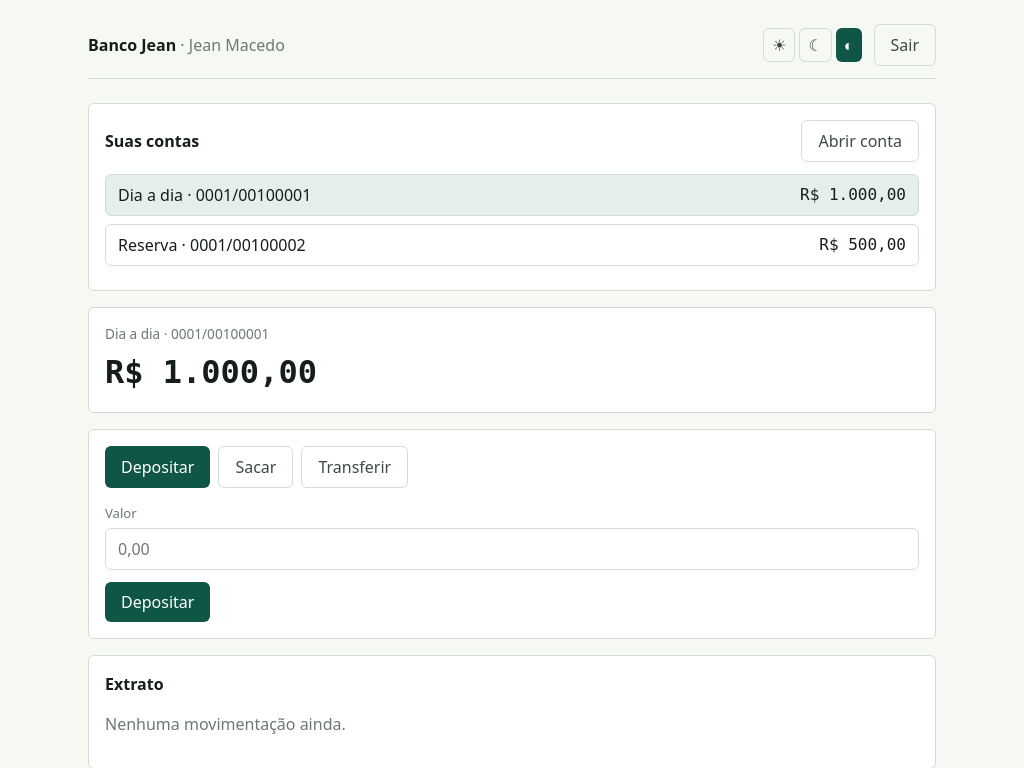
conta ativa › trocar de conta troca o saldo e recarrega o extrato
Click the button "Reserva · 0001/00100002 R$ 500,00" at (212, 245), box [105, 224, 919, 266]
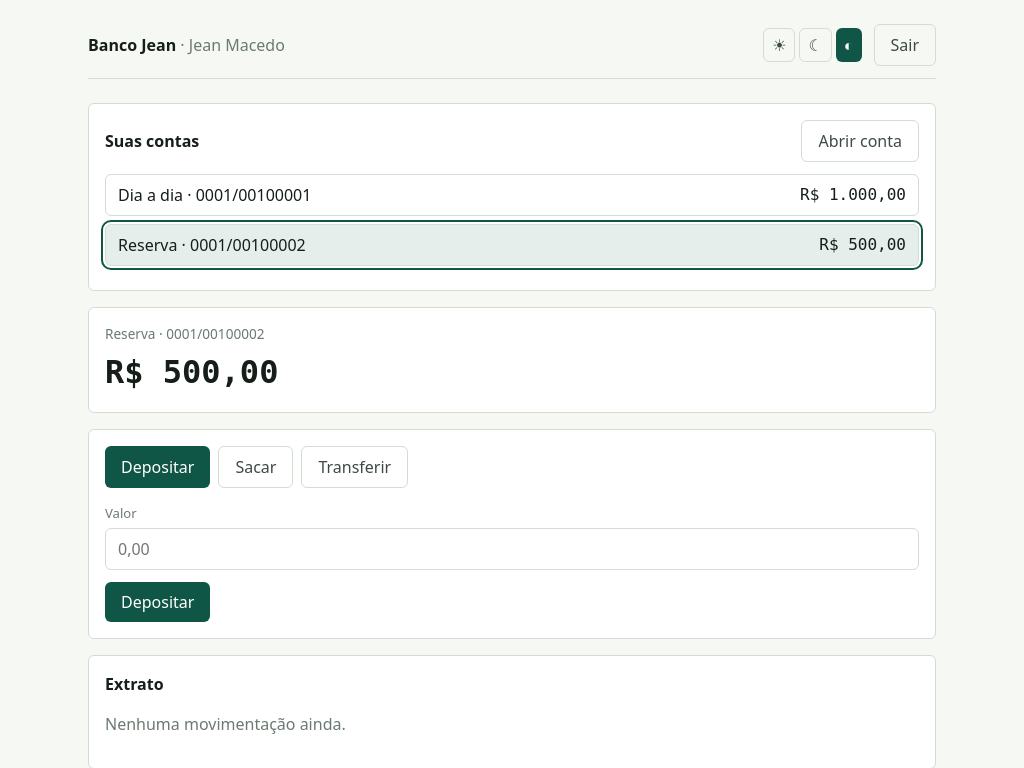
Expected: the 2nd text "R$ 500,00" is shown, [105, 353, 278, 391]
